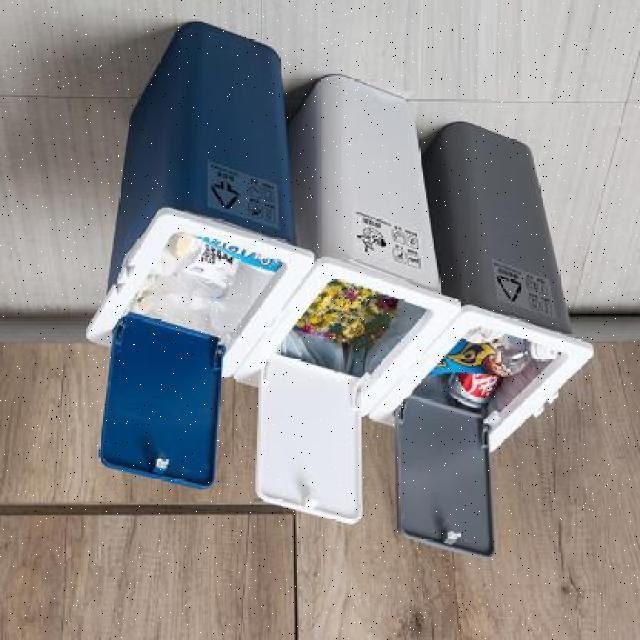garbage container: (78, 21, 317, 383), (286, 74, 445, 422)
